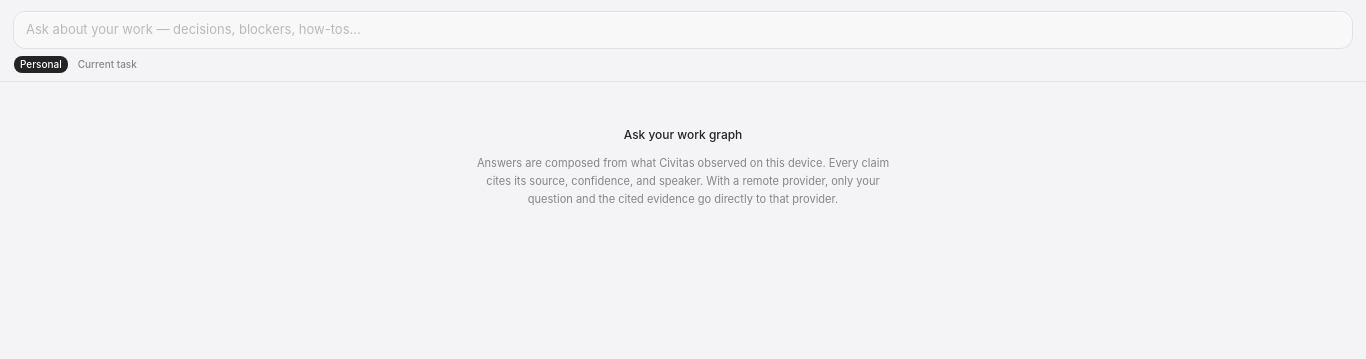
Test: GraphMode — grounding-first honesty (a) › zero citable sources but expanded experts/extraPeople still render the section stack, no LLM (finding 1)
Type "who knows billing?" into the text box named "Ask Civitas". click: (683, 30)
box: [14,12,1352,48]
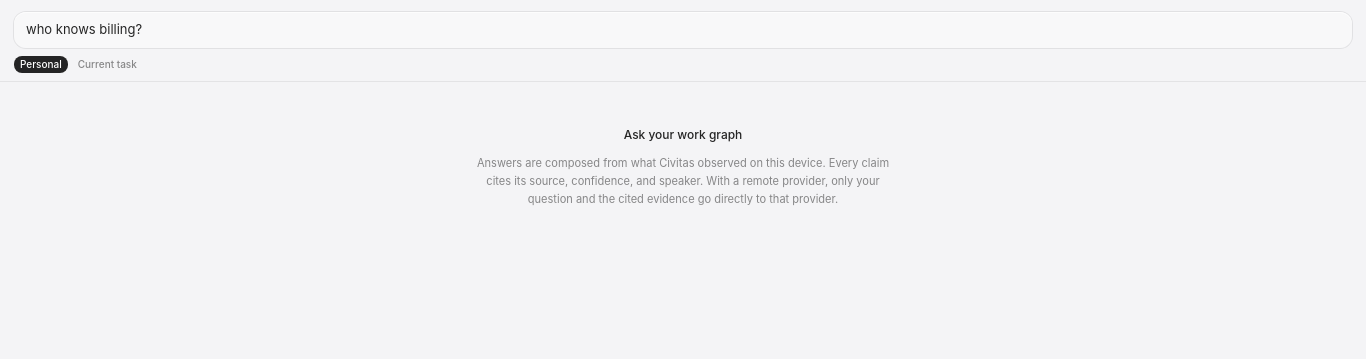
Submit the form named "Ask Civitas", box [0,0,1365,81]
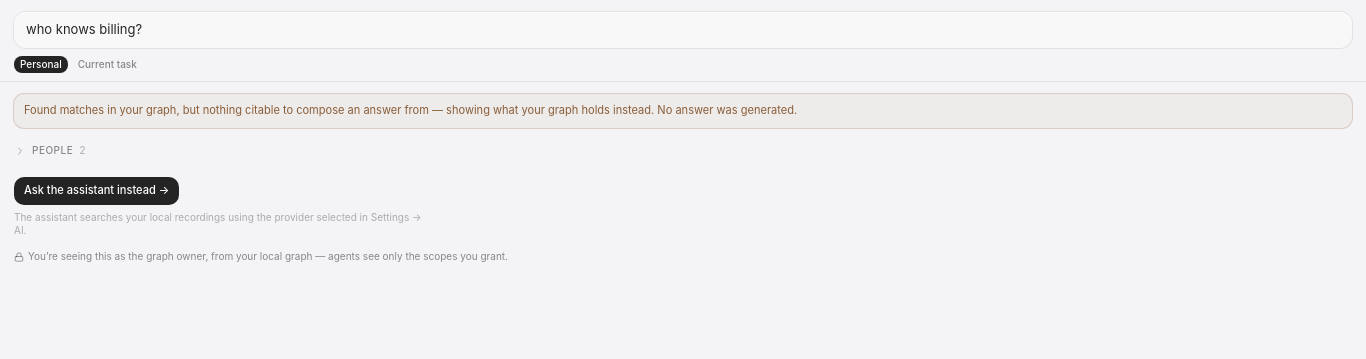
Result: the element with test id "ask-empty-with-context" is shown at [14,94,1352,264]
Result: the text "Found matches in your graph, but nothing citable" is shown at [24,103,797,117]
Result: the element with test id "ask-sections" is shown
Click the button "People 2". click: (53, 150)
box: [8,140,1346,162]
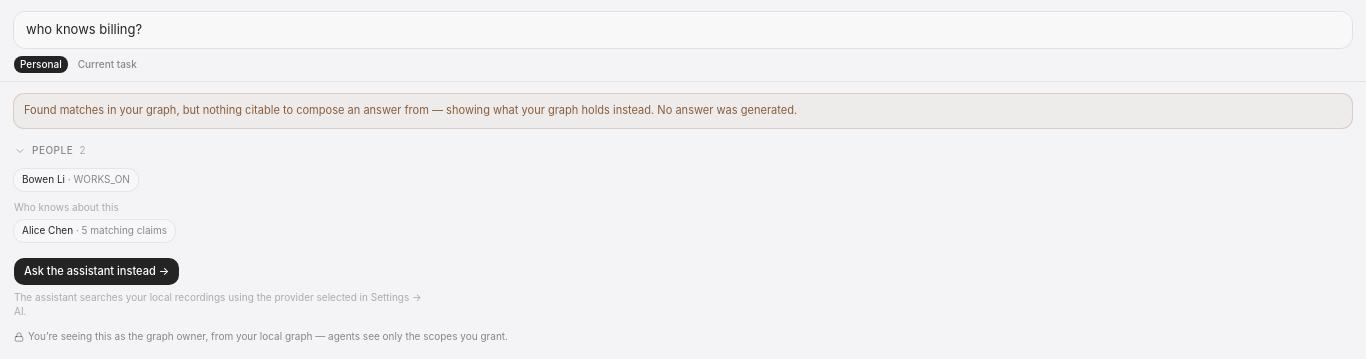
Result: the list item "Bowen Li" is shown at [22,174,65,186]
Result: the list item "Alice Chen" is shown at [22,224,73,236]
